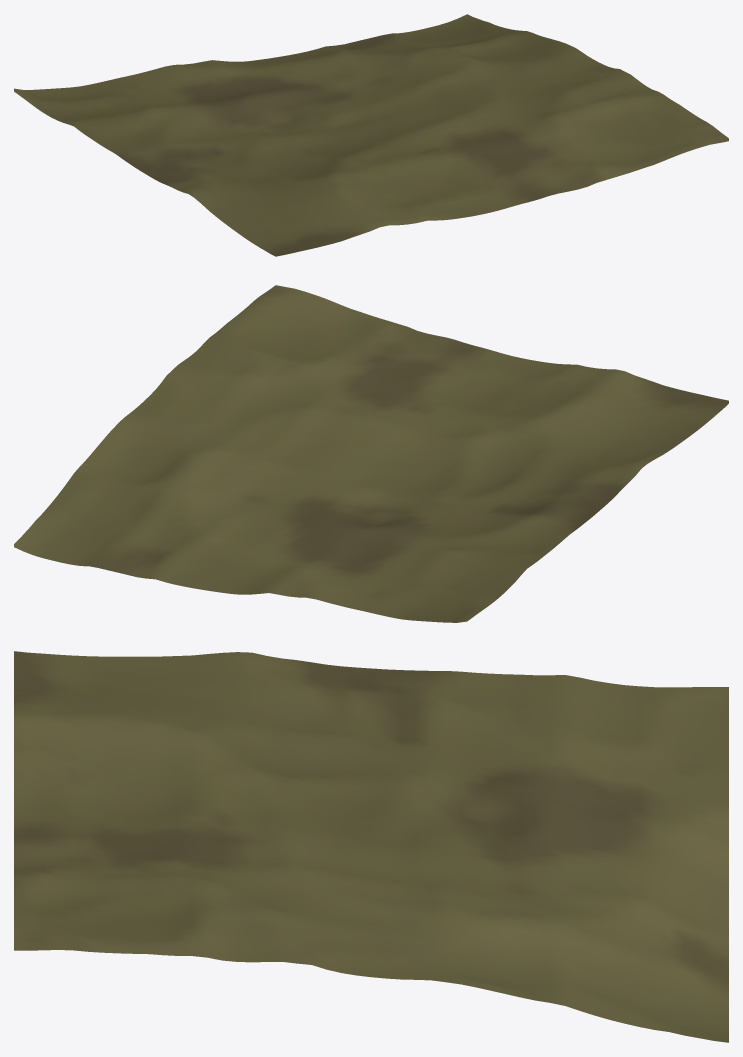
The model's file is land_m_06_10.glb.
3 renders of one model, top to bottom at view 1: azimuth 30°, elevation 25°; view 2: azimuth 150°, elevation 25°; view 3: azimuth 270°, elevation 25°, orthographic. The views are drawn at different scales.
Visible parts, largest first — view 1: land_m_06_10; view 2: land_m_06_10; view 3: land_m_06_10.
Part boxes in pixels (x1,y1,x2,y2): land_m_06_10: [14, 14, 728, 256]; land_m_06_10: [14, 285, 728, 622]; land_m_06_10: [14, 651, 728, 1042].
Bounding box in the file's own units: 960 × 153 × 960.
